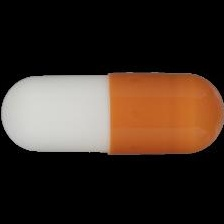55289-939: (0, 0, 224, 224)
